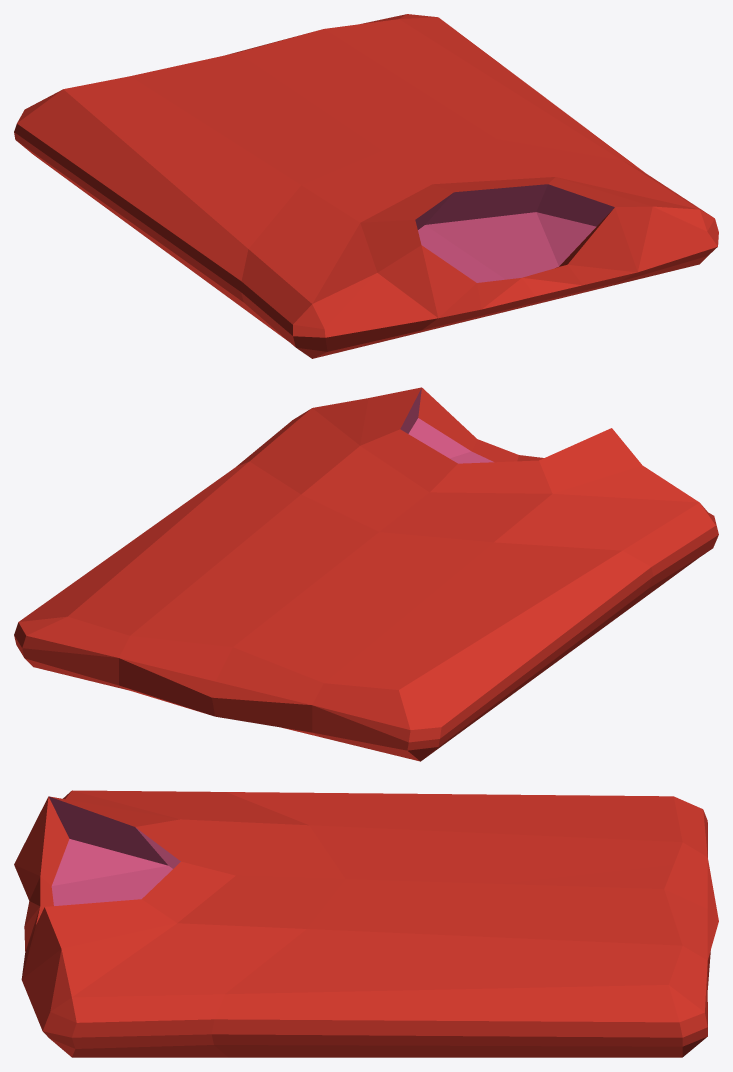
File: tshirt.glb
3 renders of one model, top to bottom at view 1: azimuth 30°, elevation 25°; view 2: azimuth 150°, elevation 25°; view 3: azimuth 270°, elevation 25°, orthographic. The views are drawn at different scales.
Parts seen in each view (by area): view 1: tshirt; view 2: tshirt; view 3: tshirt.
Boxes of the visible parts, box(x1,y1,x2,y2) form: tshirt: box(14, 14, 718, 358); tshirt: box(14, 387, 718, 761); tshirt: box(14, 790, 718, 1057).
Size of the model in its own units: 0.7635 by 0.1672 by 1.
